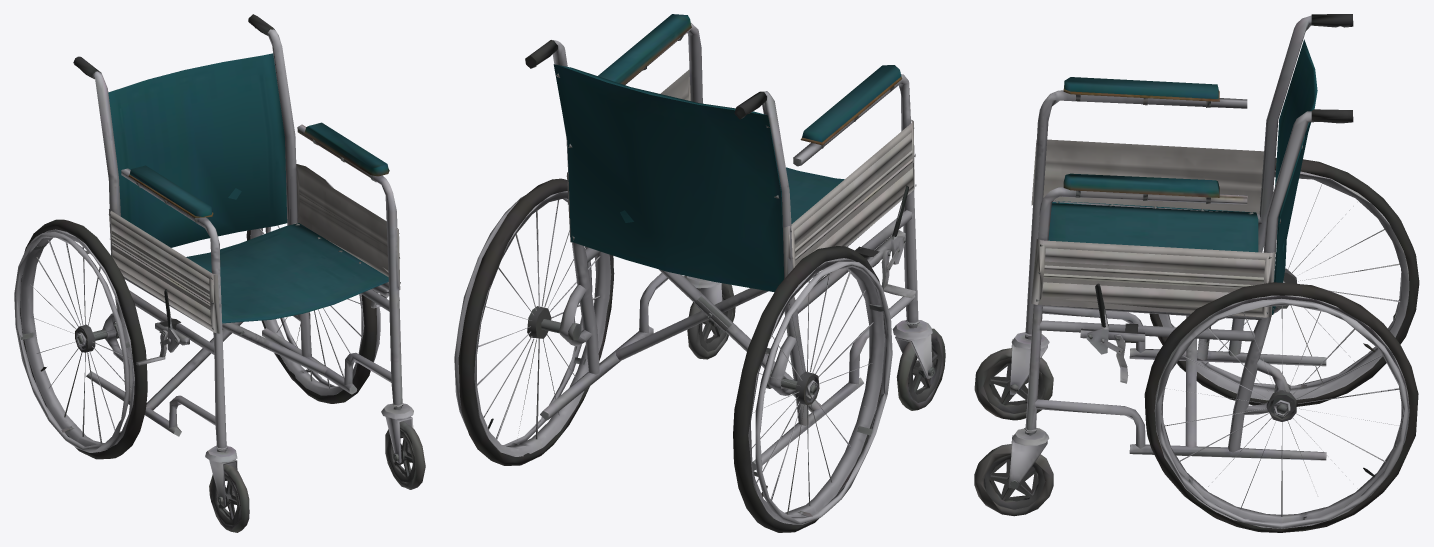
Rendered from wheelchair_01.glb.
3 views of the same model, side by side, from view 1: azimuth 30°, elevation 25°; view 2: azimuth 150°, elevation 25°; view 3: azimuth 270°, elevation 25° (orthographic). The views are drawn at different scales.
Parts seen in each view (by area): view 1: wheelchair_01; view 2: wheelchair_01; view 3: wheelchair_01.
Part boxes in pixels (x1=…): wheelchair_01: x1=14, y1=14, x2=425, y2=532; wheelchair_01: x1=454, y1=14, x2=945, y2=532; wheelchair_01: x1=974, y1=14, x2=1419, y2=532.
Bounding box in the file's own units: 0.824 × 1.1 × 1.09.
Materials: 1 (1 with a texture image).
